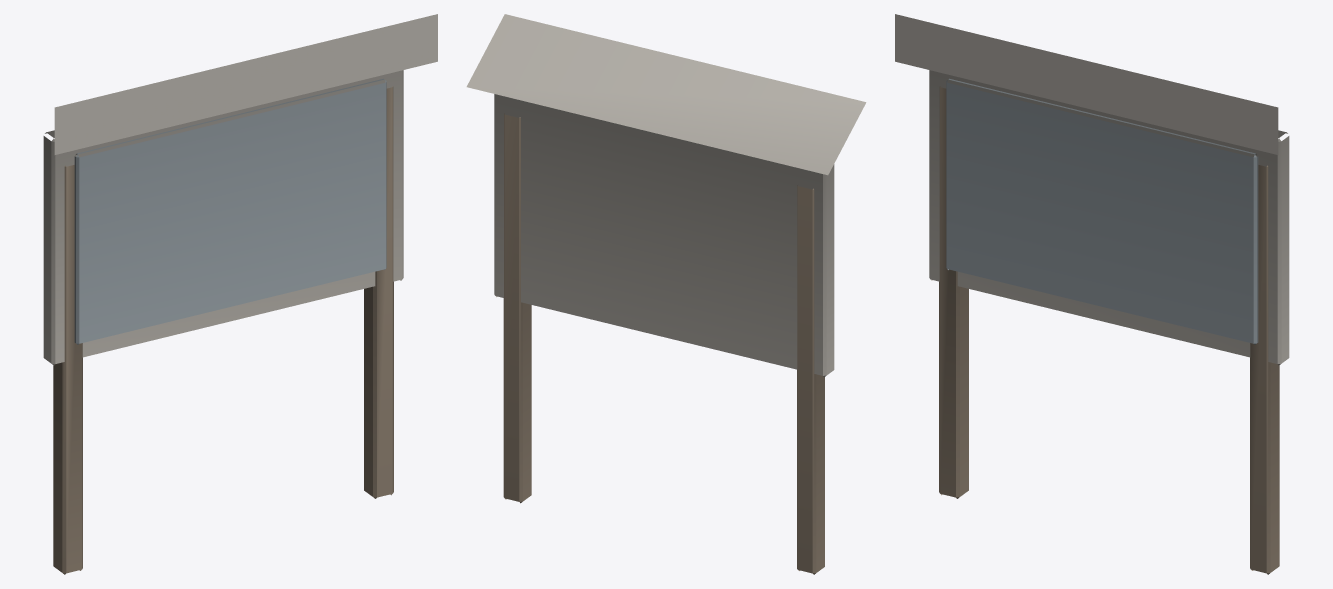
Rendered from notice_board.glb.
The picture shows the model from 3 angles, left to right: view 1: azimuth 30°, elevation 25°; view 2: azimuth 150°, elevation 25°; view 3: azimuth 330°, elevation 25°; orthographic projection. The views are drawn at different scales.
Visible parts, largest first — view 1: props_notice_board; view 2: props_notice_board; view 3: props_notice_board.
Boxes of the visible parts, <box> form: props_notice_board: <box>43,14,437,574</box>; props_notice_board: <box>466,14,866,574</box>; props_notice_board: <box>895,14,1289,574</box>.
Bounding box in the file's own units: 1.85 × 2.25 × 0.34.
